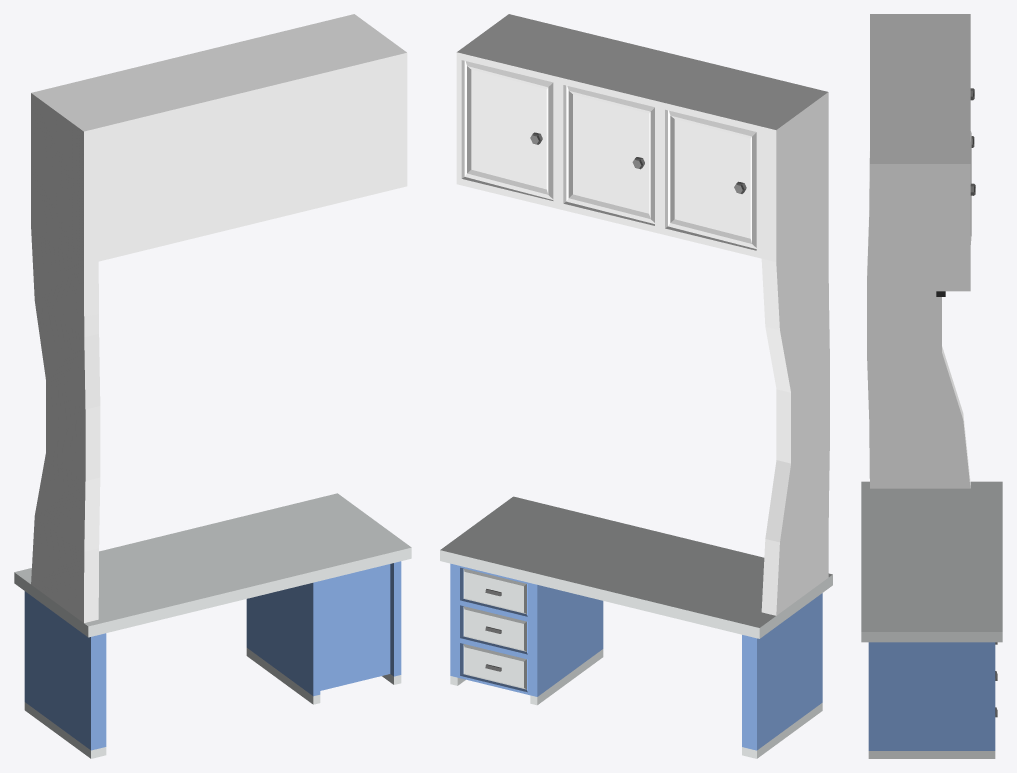
Rendered from Desk 1.fbx.
The picture shows the model from 3 angles, left to right: view 1: azimuth 30°, elevation 25°; view 2: azimuth 150°, elevation 25°; view 3: azimuth 270°, elevation 25°; orthographic projection. The views are drawn at different scales.
Visible parts, largest first — view 1: Desk 1; view 2: Desk 1; view 3: Desk 1.
Boxes of the visible parts, x1,y1,x2,y2 form: Desk 1: (14, 14, 411, 758); Desk 1: (440, 14, 832, 758); Desk 1: (861, 14, 1002, 758).
Bounding box in the file's own units: 2.42 × 4.49 × 0.9597.
